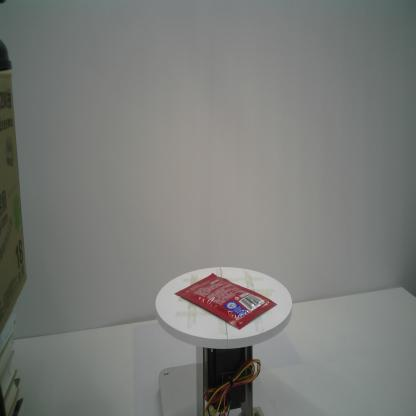Seasoner: (172, 271, 278, 331)
